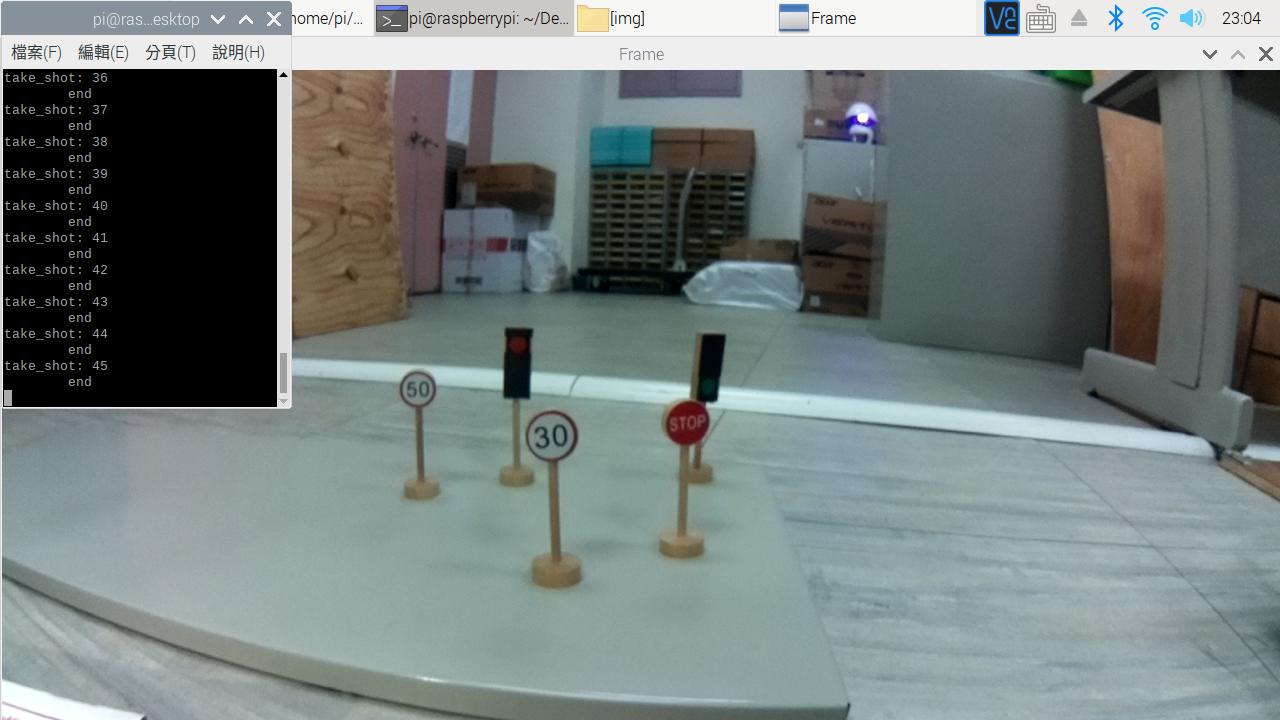Green: (698, 340, 724, 404)
Red: (503, 327, 536, 400)
Speed30: (525, 416, 580, 461)
Speed50: (399, 372, 444, 407)
Stop: (663, 401, 710, 444)
